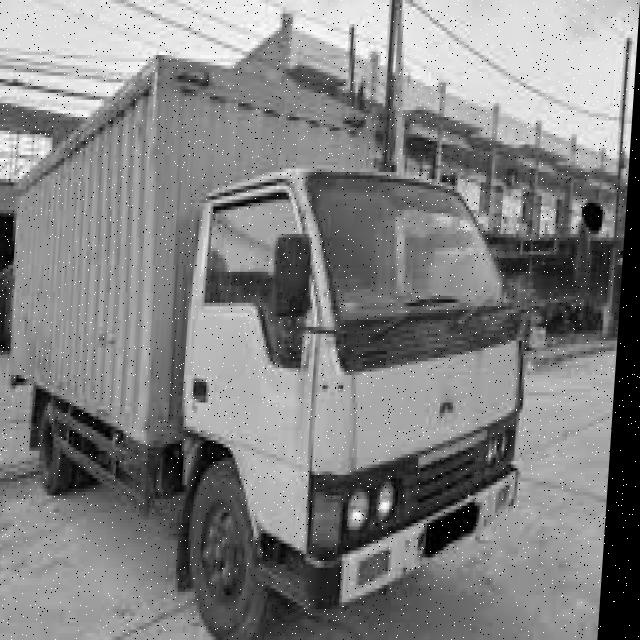truck: (140, 121, 614, 640)
